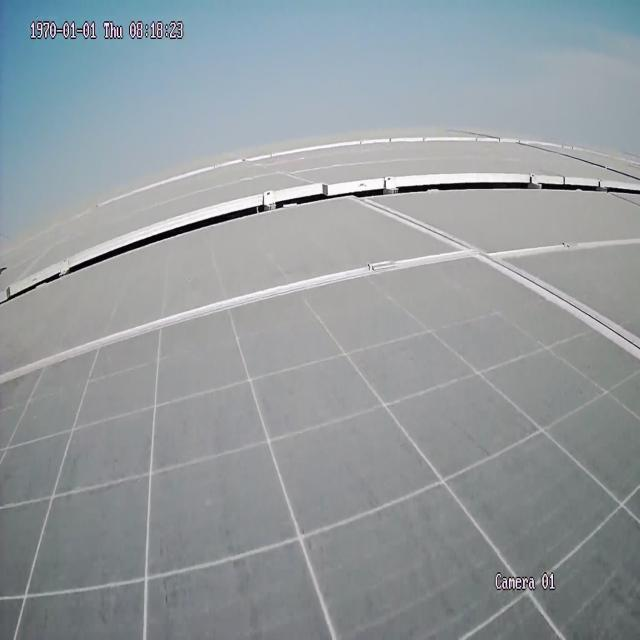interior panel: (0, 203, 639, 385)
outher panel: (0, 178, 638, 308)
